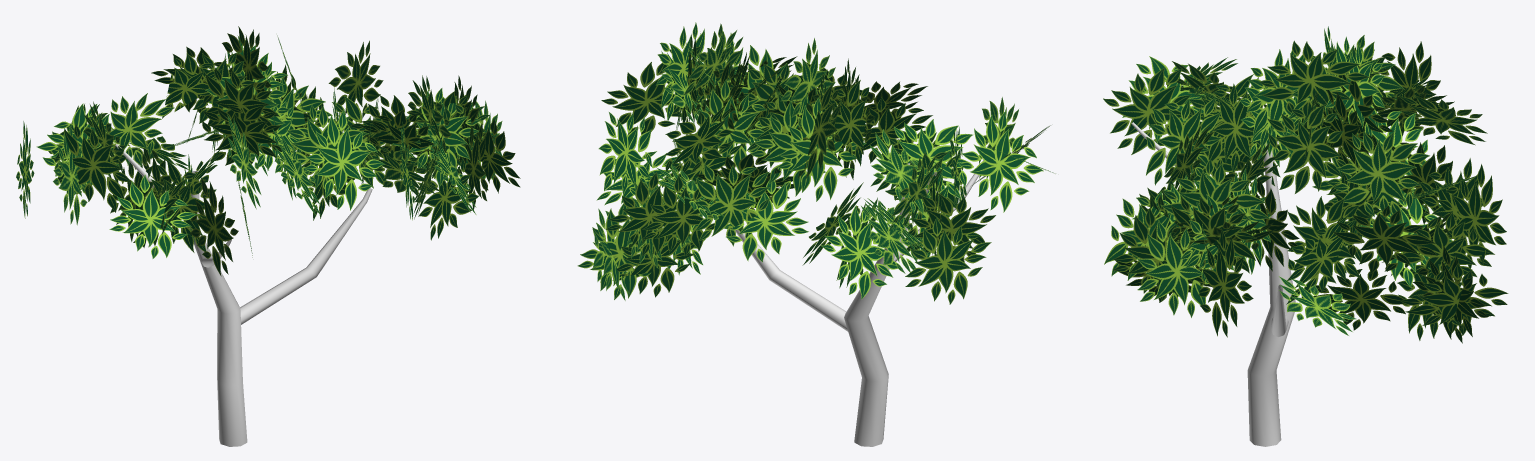
Rendered from Tree3_LOD2.fbx.
3 views of the same model, side by side, from view 1: azimuth 30°, elevation 25°; view 2: azimuth 150°, elevation 25°; view 3: azimuth 270°, elevation 25° (orthographic). The views are drawn at different scales.
Visible parts, largest first — view 1: Tree3_LOD2; view 2: Tree3_LOD2; view 3: Tree3_LOD2.
Part boxes in pixels (left/top/right/bottom): Tree3_LOD2: left=16, top=26, right=520, bottom=446; Tree3_LOD2: left=577, top=22, right=1055, bottom=446; Tree3_LOD2: left=1103, top=26, right=1508, bottom=446.
Size of the model in its own units: 1179 by 1027 by 909.
